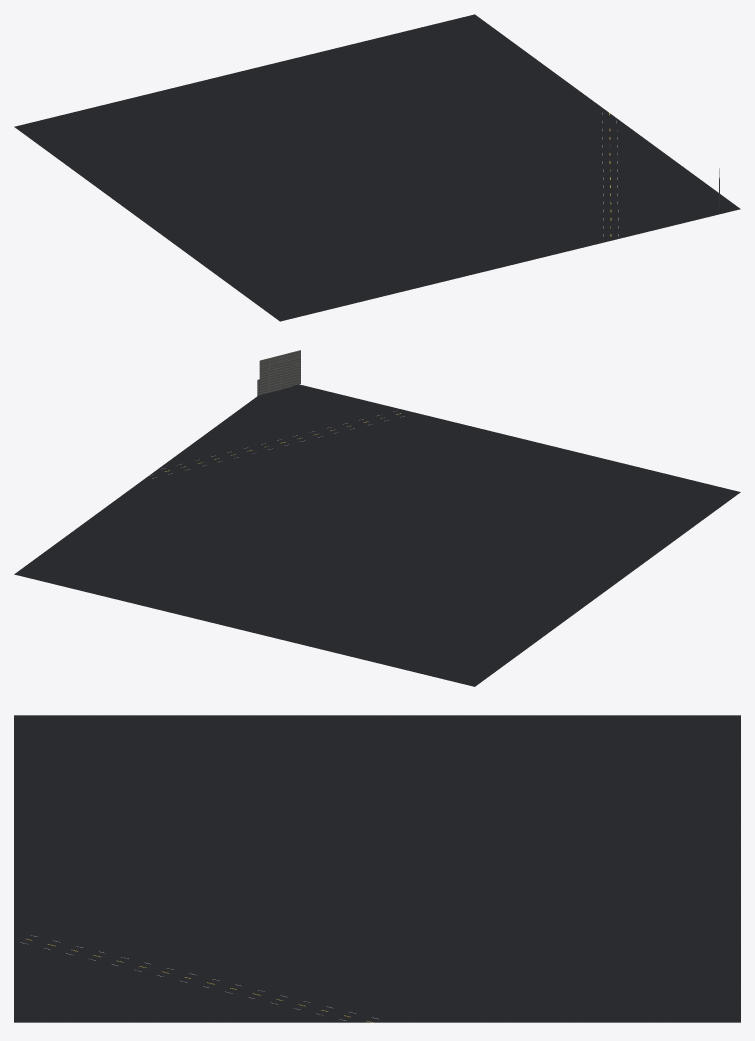
The picture shows the model from 3 angles, top to bottom: view 1: azimuth 30°, elevation 25°; view 2: azimuth 150°, elevation 25°; view 3: azimuth 270°, elevation 25°; orthographic projection. The views are drawn at different scales.
Visible parts, largest first — view 1: t3_1; view 2: t3_1; view 3: t3_1.
Part boxes in pixels (bbox=[...]): t3_1: bbox=[14, 14, 740, 321]; t3_1: bbox=[14, 350, 740, 686]; t3_1: bbox=[14, 715, 740, 1022].
Size of the model in its own units: 250 by 19.46 by 250.
3 materials, 2 textured.
